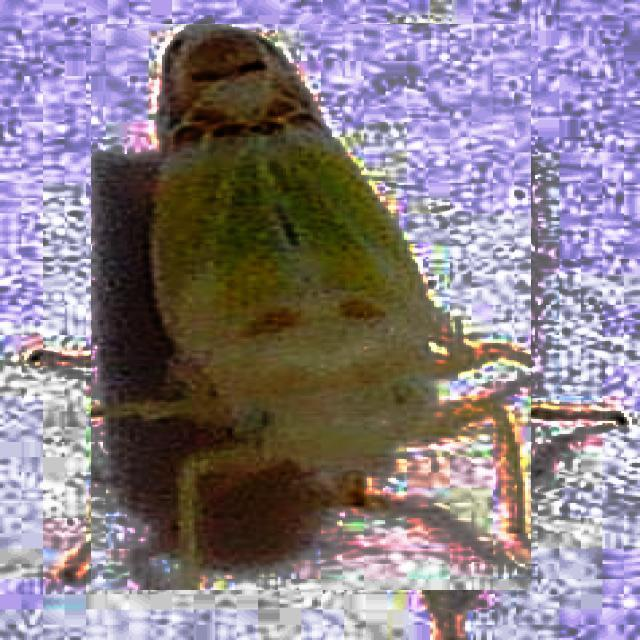green-leafhopper: (91, 24, 531, 590)
